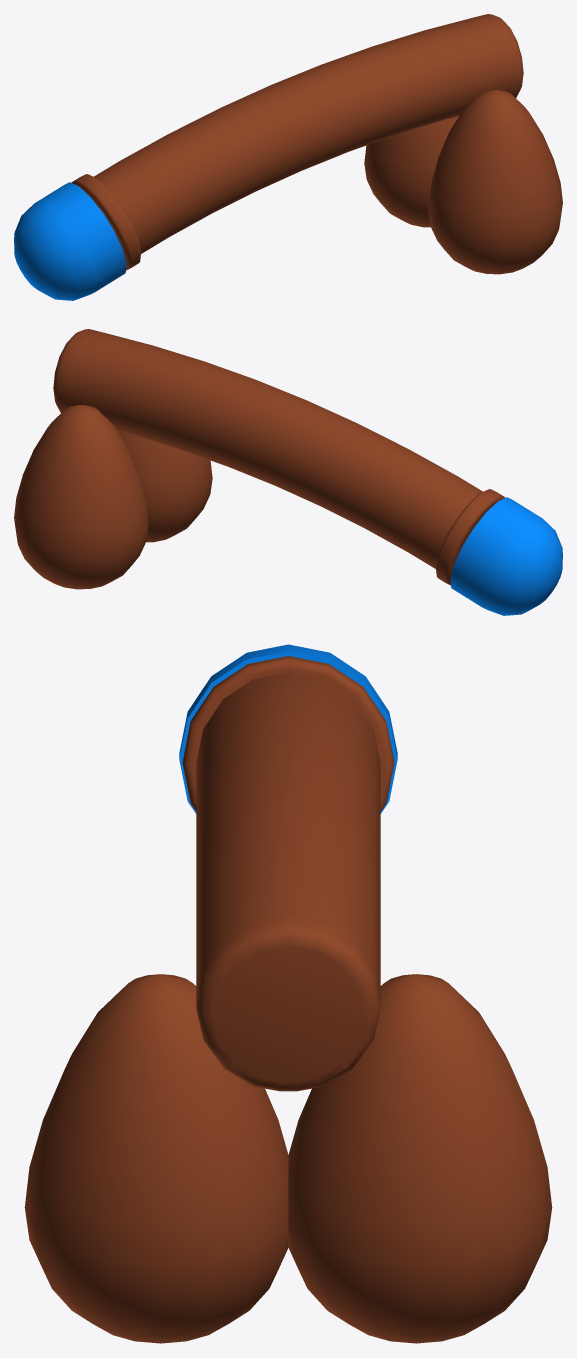
File: bite.fbx
The picture shows the model from 3 angles, top to bottom: view 1: azimuth 30°, elevation 25°; view 2: azimuth 150°, elevation 25°; view 3: azimuth 270°, elevation 25°; orthographic projection. The views are drawn at different scales.
Visible parts, largest first — view 1: Cylinder; view 2: Cylinder; view 3: Cylinder.
Part boxes in pixels (x1,y1,x2,y2): Cylinder: (14,14,562,300); Cylinder: (14,329,562,615); Cylinder: (24,644,552,1343).
Bounding box in the file's own units: 74.57 × 31.25 × 34.
